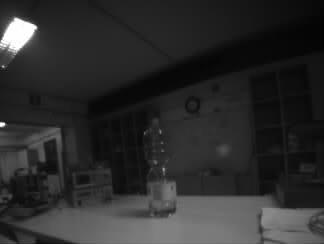Bottle: (145, 119, 176, 216)
